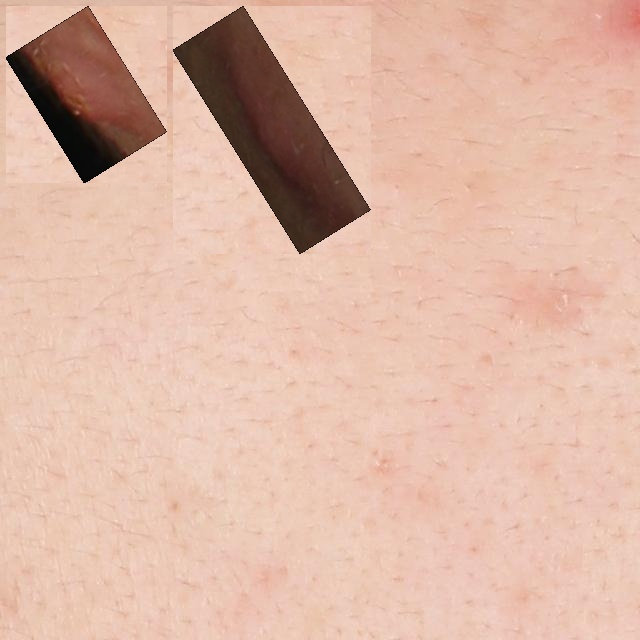nodule: (184, 17, 360, 242), (17, 17, 156, 172)
